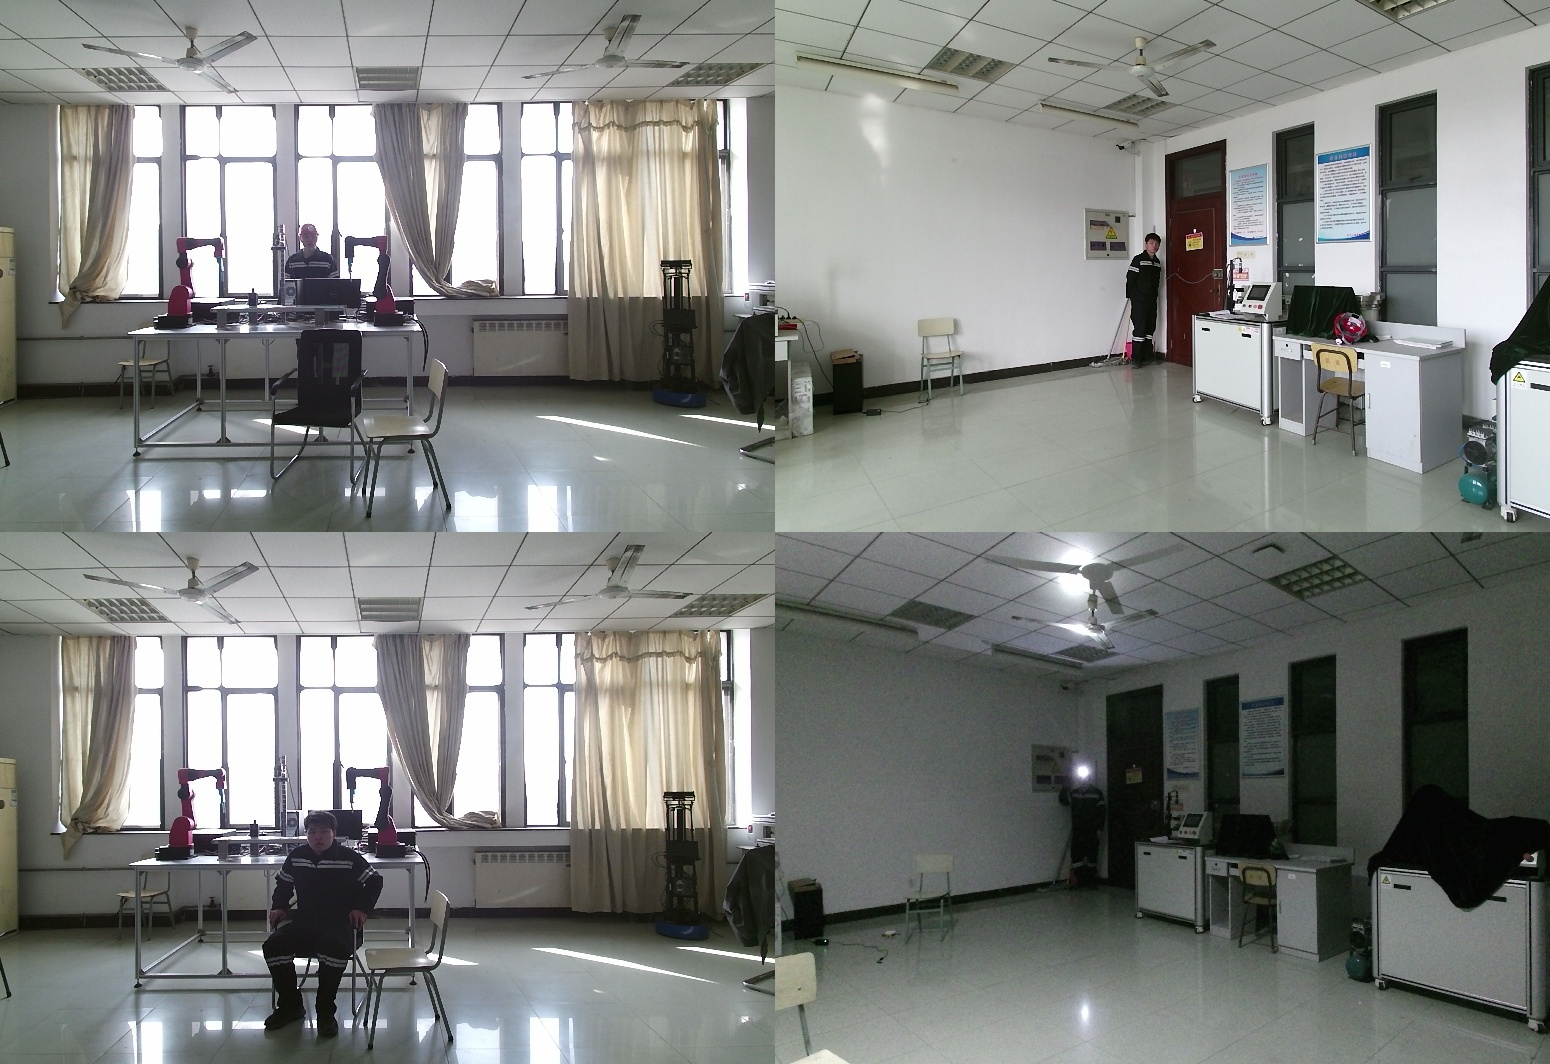person: (264, 812, 390, 1036), (1057, 768, 1105, 890), (1125, 233, 1163, 372), (283, 222, 342, 281)
